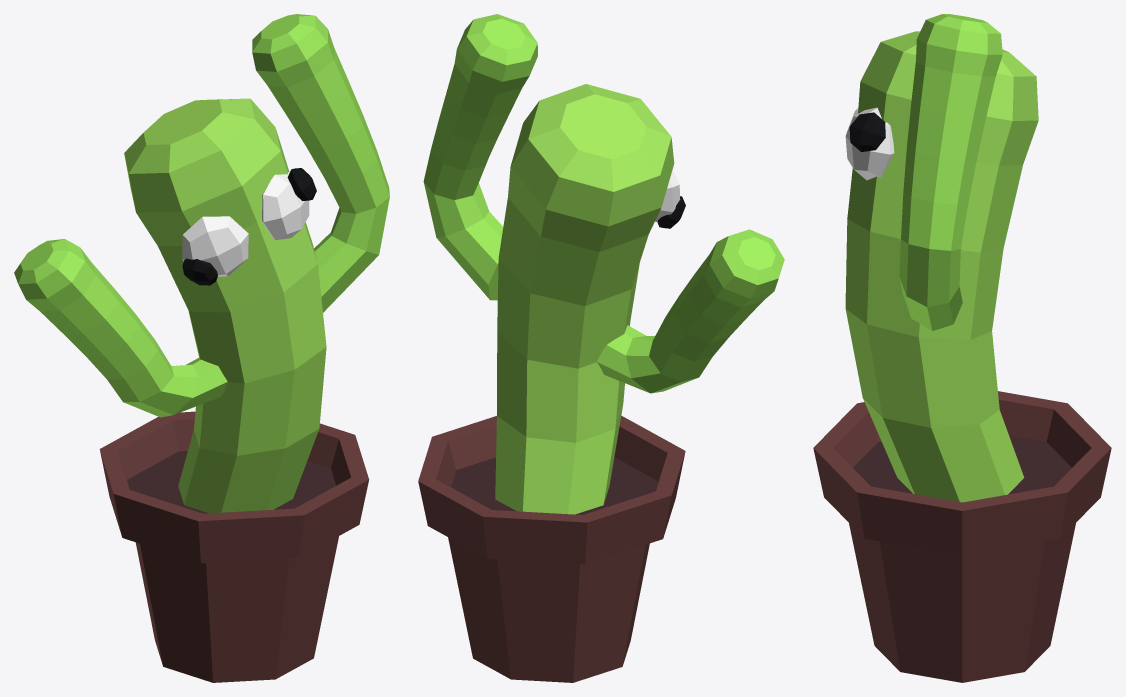
Rendered from dance_cactus.fbx.
3 views of the same model, side by side, from view 1: azimuth 30°, elevation 25°; view 2: azimuth 150°, elevation 25°; view 3: azimuth 270°, elevation 25° (orthographic). The views are drawn at different scales.
Visible parts, largest first — view 1: Cylinder.024; view 2: Cylinder.024; view 3: Cylinder.024.
Part boxes in pixels (x1,y1,x2,y2): Cylinder.024: (14, 14, 389, 682); Cylinder.024: (418, 14, 784, 682); Cylinder.024: (813, 14, 1111, 682).
Size of the model in its own units: 37.18 by 60.61 by 24.84.
